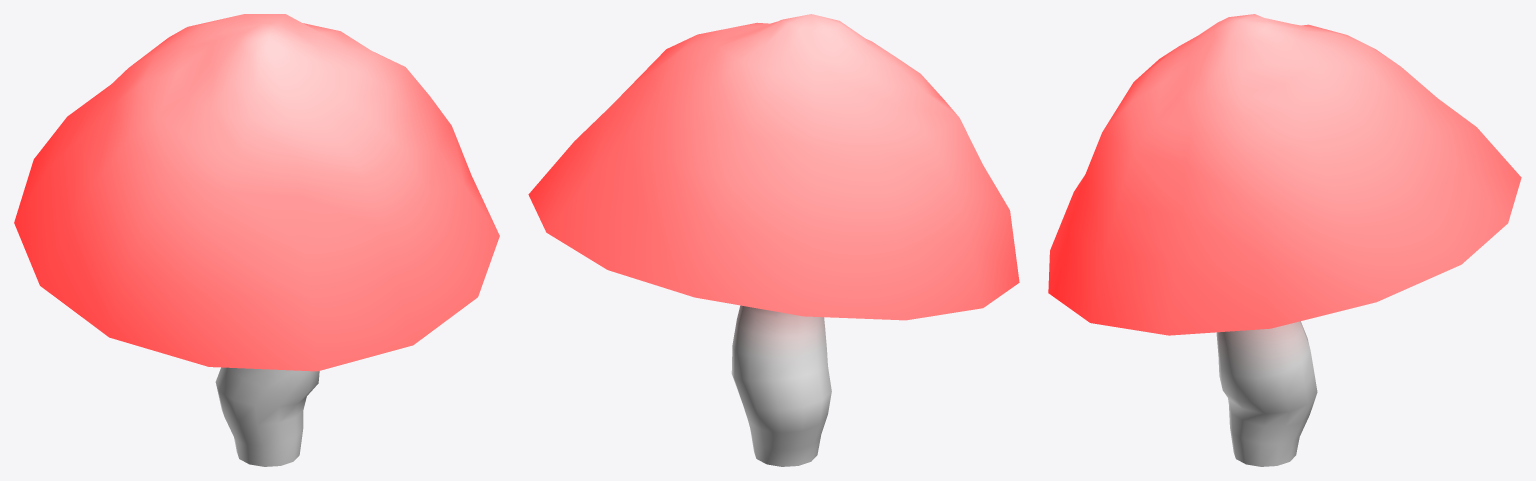
File: mushroom_9.glb
3 views of the same model, side by side, from view 1: azimuth 30°, elevation 25°; view 2: azimuth 150°, elevation 25°; view 3: azimuth 270°, elevation 25° (orthographic).
Visible parts, largest first — view 1: geo1; view 2: geo1; view 3: geo1.
Boxes of the visible parts, x1,y1,x2,y2 form: geo1: (14, 14, 499, 466); geo1: (528, 14, 1019, 466); geo1: (1048, 14, 1521, 466).
Size of the model in its own units: 0.2841 by 0.2787 by 0.2798.
